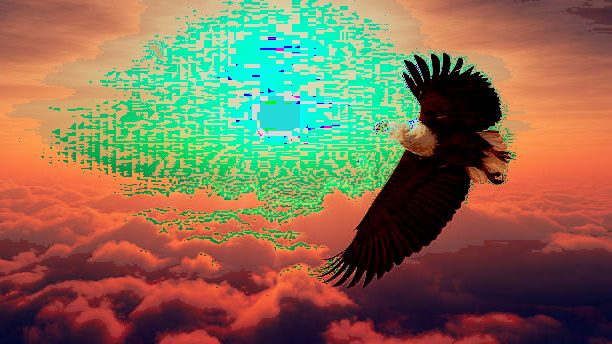Bird: (325, 45, 511, 289)
